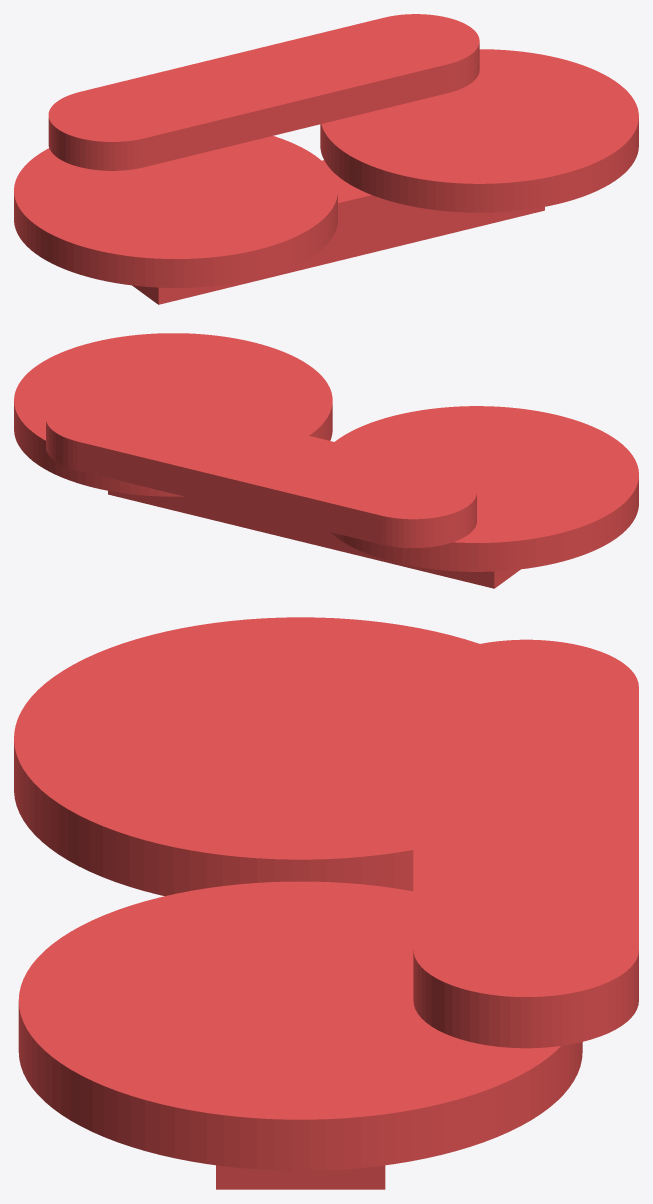
File: linkage00.glb
3 views of the same model, one above another, from view 1: azimuth 30°, elevation 25°; view 2: azimuth 150°, elevation 25°; view 3: azimuth 270°, elevation 25° (orthographic). The views are drawn at different scales.
Bounding box in the file's own units: 211 × 40 × 111.
